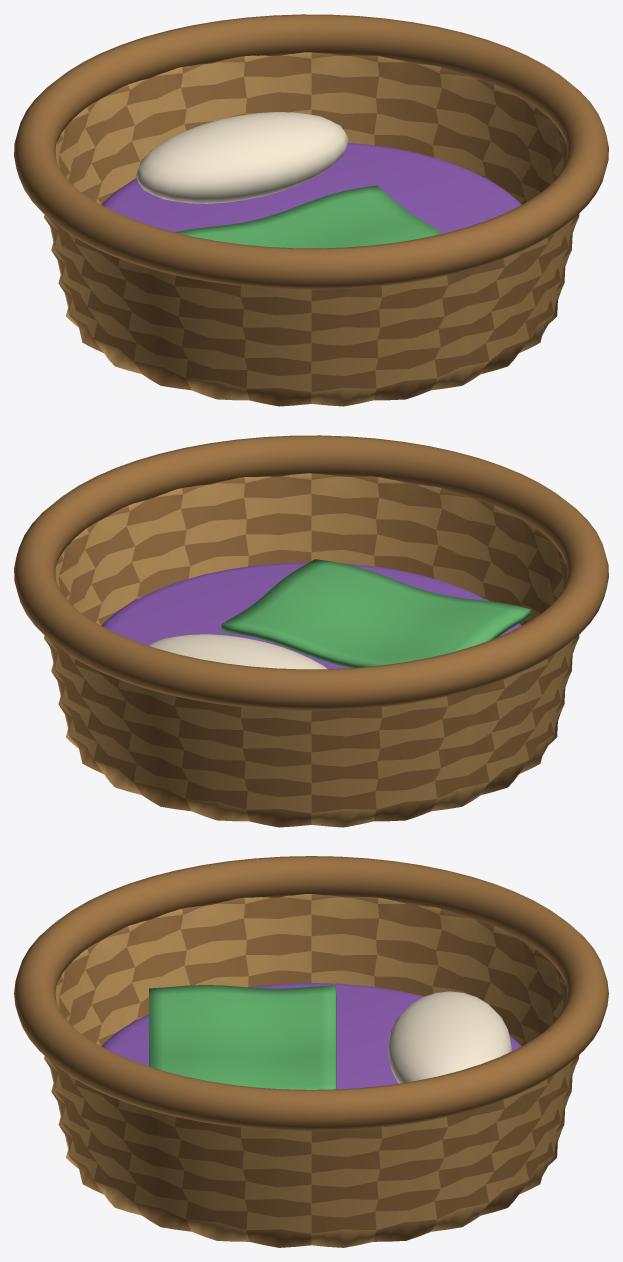
Rendered from spike_basket.glb.
3 renders of one model, top to bottom at view 1: azimuth 30°, elevation 25°; view 2: azimuth 150°, elevation 25°; view 3: azimuth 270°, elevation 25°, orthographic.
Parts seen in each view (by area): view 1: BasketWall, BasketRim, BasketCushion, BasketPillow, BasketBlanket; view 2: BasketWall, BasketRim, BasketBlanket, BasketCushion, BasketPillow; view 3: BasketWall, BasketRim, BasketBlanket, BasketPillow, BasketCushion.
Part boxes in pixels (left/top/right/bottom): BasketWall: left=44, top=52, right=579, bottom=406; BasketRim: left=14, top=14, right=608, bottom=289; BasketCushion: left=101, top=143, right=521, bottom=233; BasketPillow: left=136, top=112, right=348, bottom=203; BasketBlanket: left=175, top=185, right=442, bottom=248; BasketWall: left=44, top=473, right=579, bottom=827; BasketRim: left=14, top=435, right=608, bottom=710; BasketBlanket: left=221, top=559, right=530, bottom=667; BasketCushion: left=101, top=562, right=521, bottom=669; BasketPillow: left=149, top=634, right=327, bottom=669; BasketWall: left=44, top=894, right=579, bottom=1247; BasketRim: left=14, top=856, right=608, bottom=1131; BasketBlanket: left=149, top=985, right=336, bottom=1089; BasketPillow: left=387, top=991, right=511, bottom=1083; BasketCushion: left=101, top=983, right=521, bottom=1089.
Bounding box in the file's own units: 0.86 × 0.27 × 0.86.
